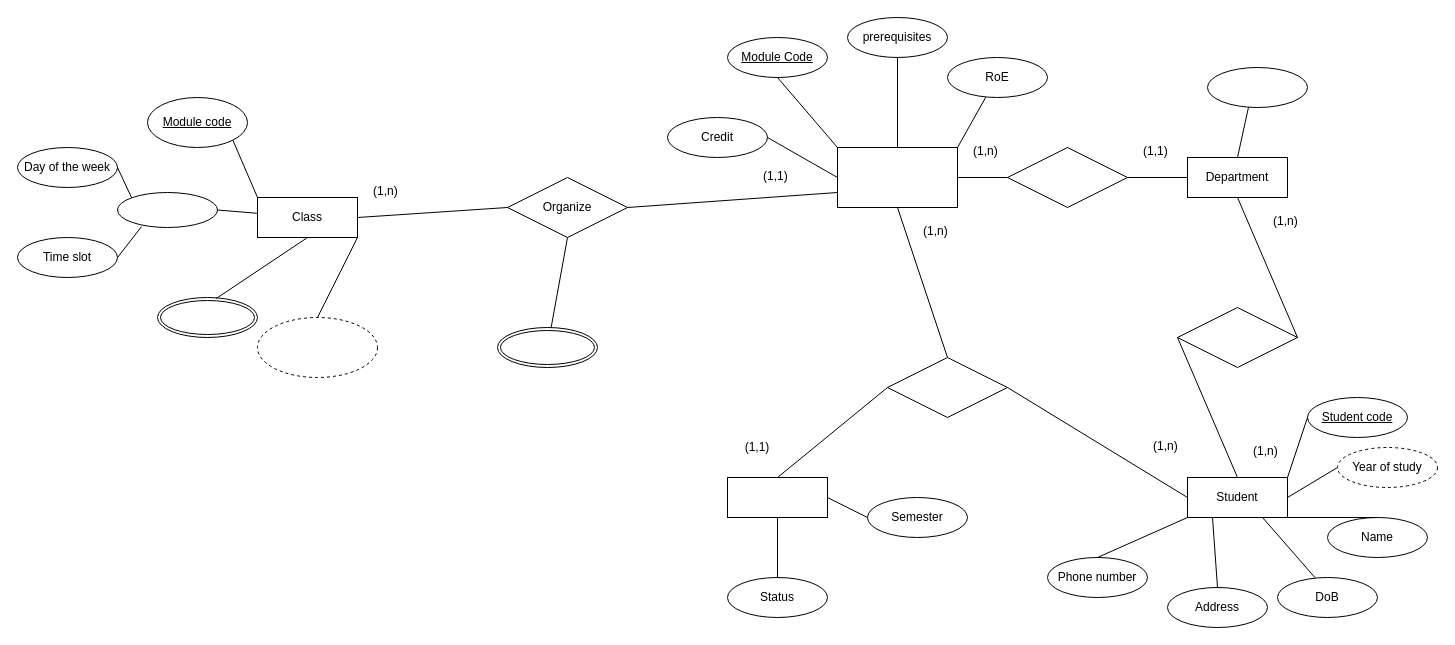
This 1455x645 diagram has some shape labels left out. The box of each missing label's shape, as (x1, y1, x2, y2) in pixels:
Belongs_to: (1006, 146, 1128, 208)
D_name: (1206, 66, 1308, 108)
Number code: (116, 192, 218, 228)
Number of students: (256, 316, 378, 378)
Pursue: (1176, 306, 1298, 368)
Register: (886, 356, 1008, 418)
Rooms: (156, 296, 258, 338)
Subject: (836, 146, 958, 208)
Teacher: (496, 326, 598, 368)
Transcript: (726, 476, 828, 518)
